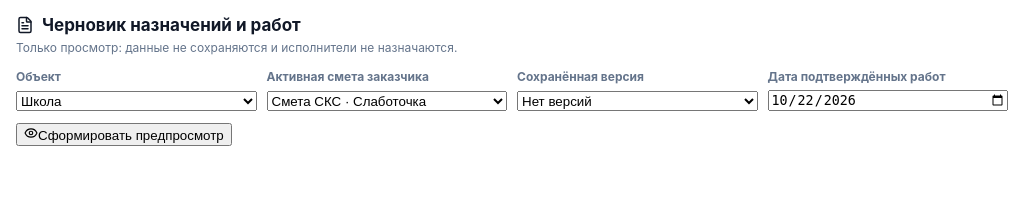
Test: AssignmentDailyDraftPreviewPanel › explains how to continue when the selected estimate has no saved versions
Click the button "Сформировать предпросмотр". click: (124, 135)
box: [16,123,232,146]
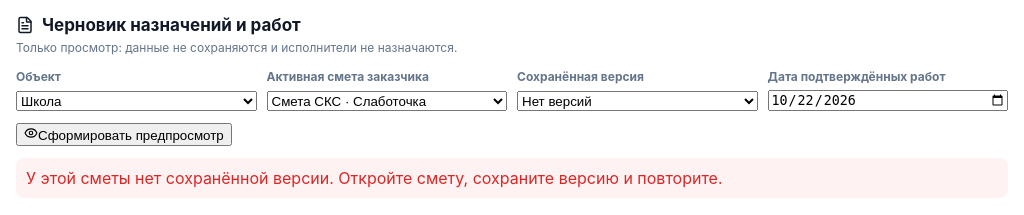
Expected: the message shows "У этой сметы нет сохранённой версии. Откройте смету, сохраните версию и повторите.", [26,168,722,188]
